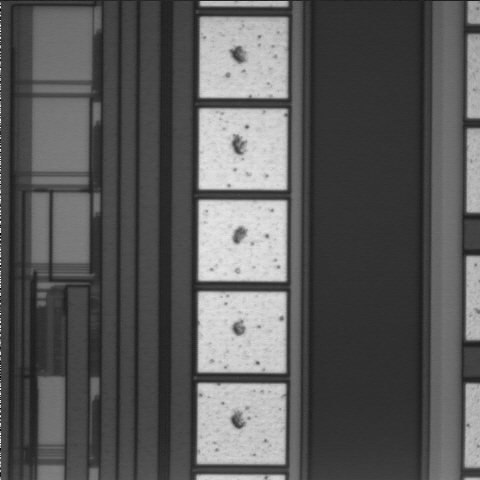pad: (199, 109, 287, 190), (198, 200, 286, 281), (198, 292, 286, 373), (197, 384, 285, 464), (200, 18, 287, 98)
